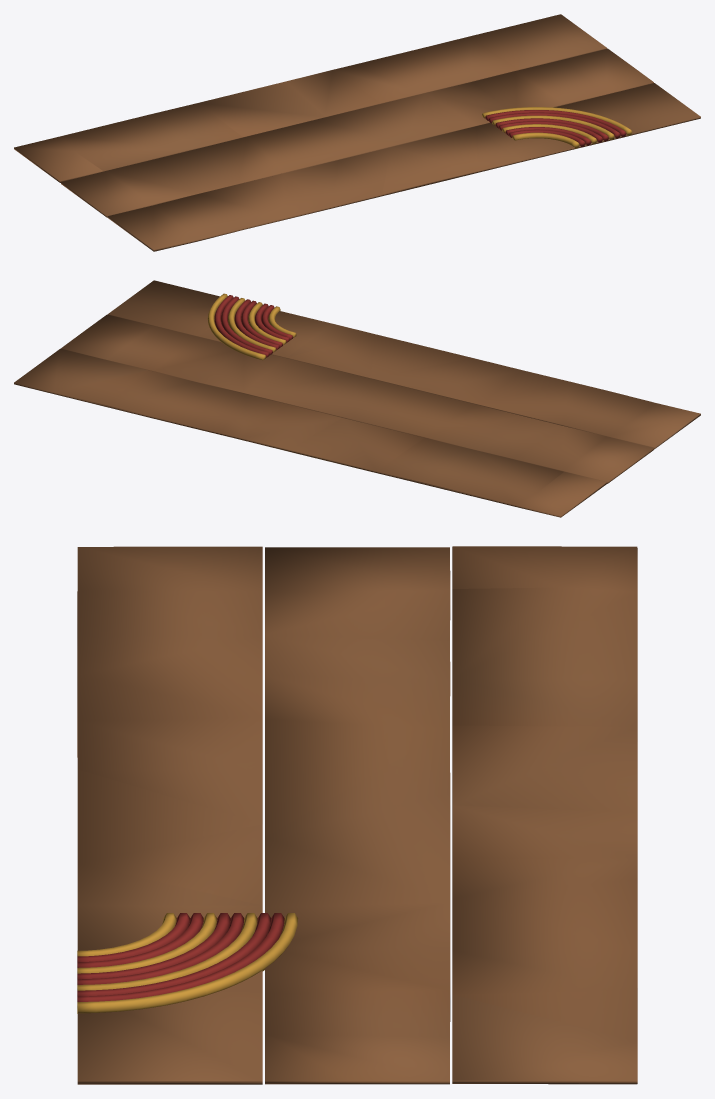
Rendered from ember_room_floor_lod1.glb.
The picture shows the model from 3 angles, top to bottom: view 1: azimuth 30°, elevation 25°; view 2: azimuth 150°, elevation 25°; view 3: azimuth 270°, elevation 25°; orthographic projection. The views are drawn at different scales.
Parts seen in each view (by area): view 1: ember_room_floor.001; view 2: ember_room_floor.001; view 3: ember_room_floor.001.
Part boxes in pixels (box(x1,y1,x2,y2)): ember_room_floor.001: box(14, 14, 700, 251); ember_room_floor.001: box(14, 280, 700, 517); ember_room_floor.001: box(77, 546, 637, 1084).
Size of the model in its own units: 300 by 3.11 by 133.
